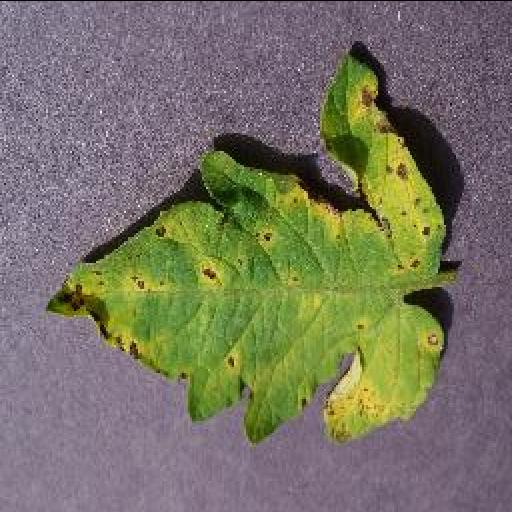disease_tomato: (44, 52, 450, 438)
